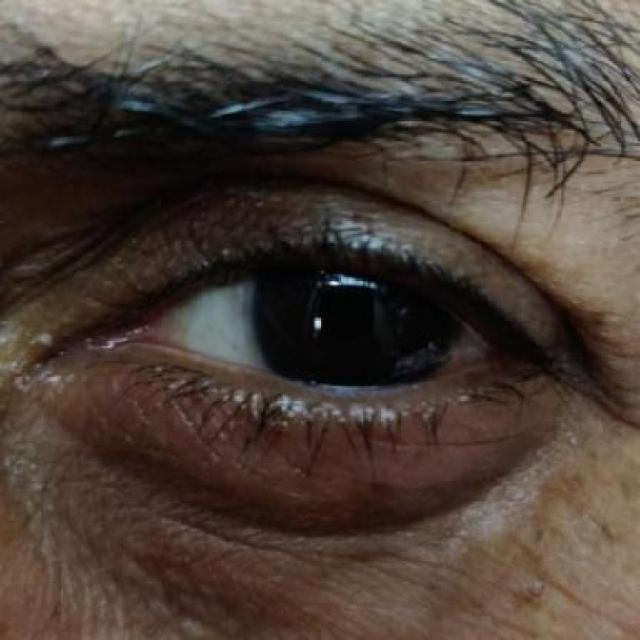awake: (68, 182, 560, 490)
